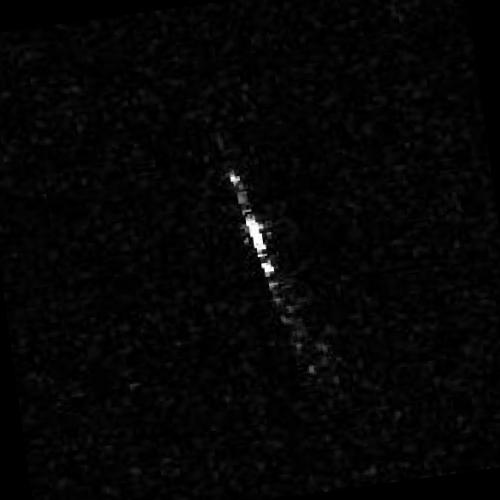ship: (225, 166, 278, 282)
